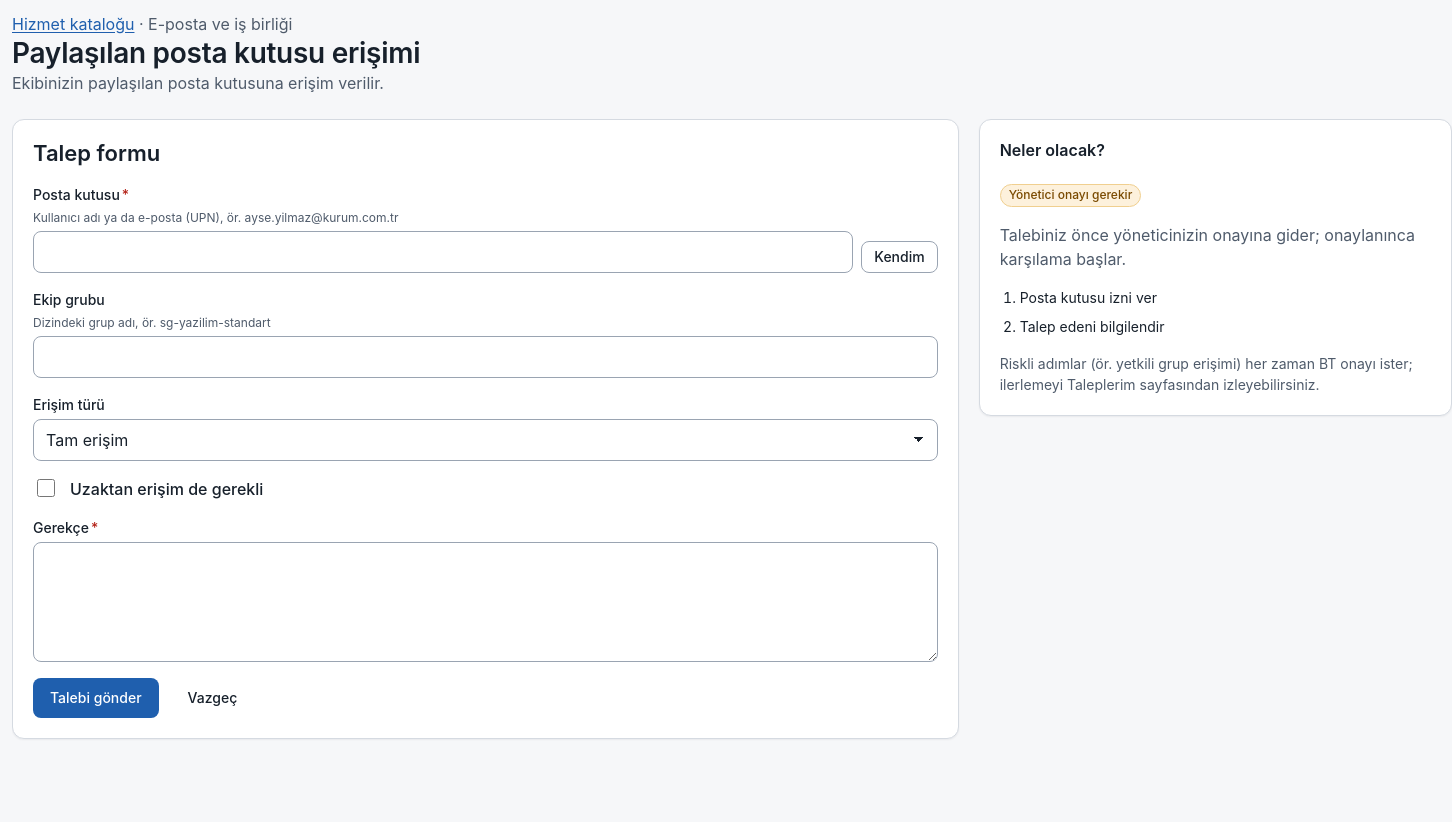
it: CatalogItemPage (/katalog/:key) › sunucu doğrulama hataları (422 message + errors) özet listesinde
Expected: the heading "Paylaşılan posta kutusu erişimi" is shown, left=12, top=36, right=420, bottom=71
Type "yok@kurum.com.tr" into the field labelled "Posta kutusu*".
click(443, 252); type("yok@kurum.com.tr")  # box left=33, top=230, right=853, bottom=272
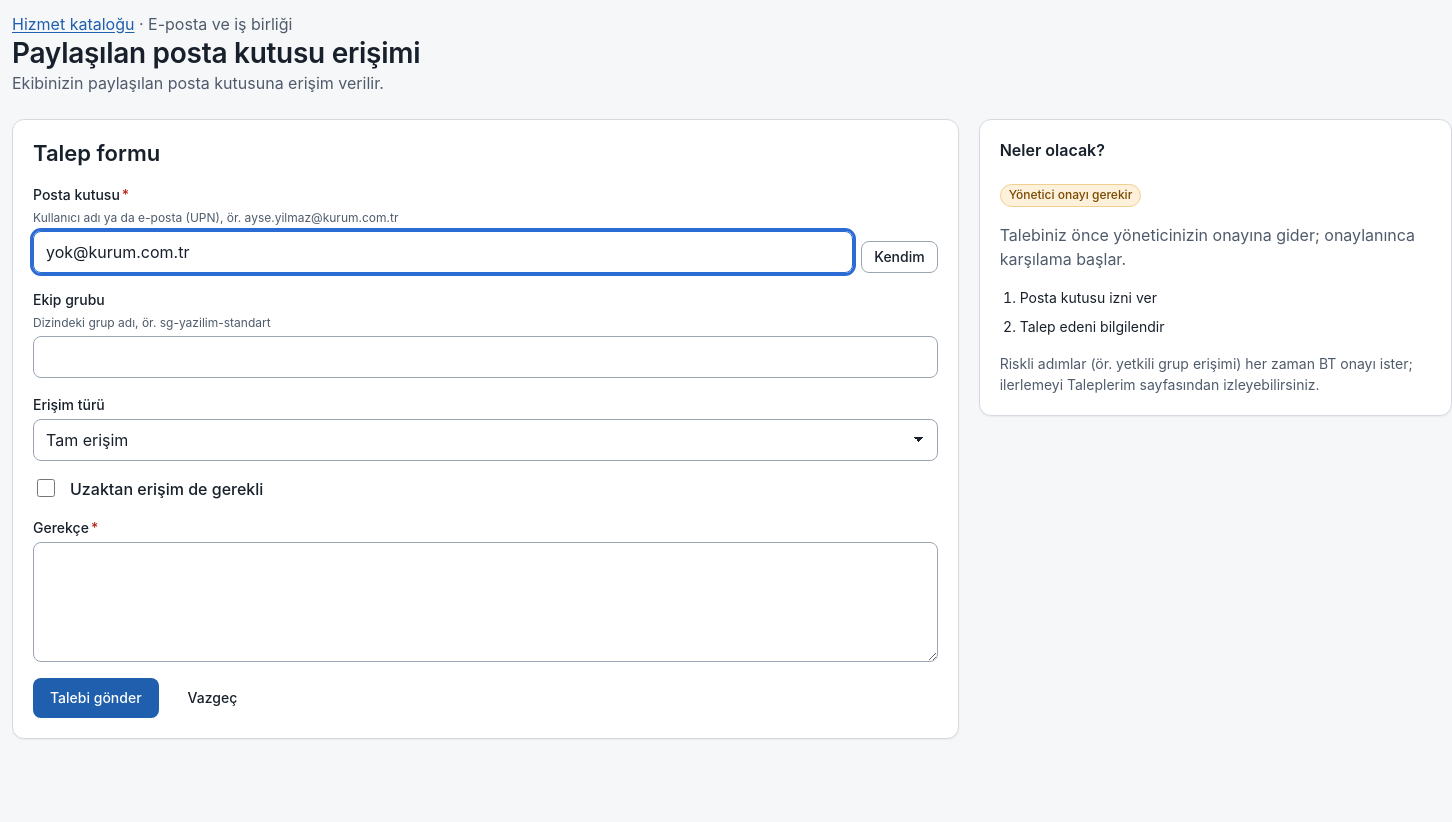
Type "Gerekli" into the text box labelled "Gerekçe*".
click(485, 602); type("Gerekli")  # box left=33, top=542, right=938, bottom=662
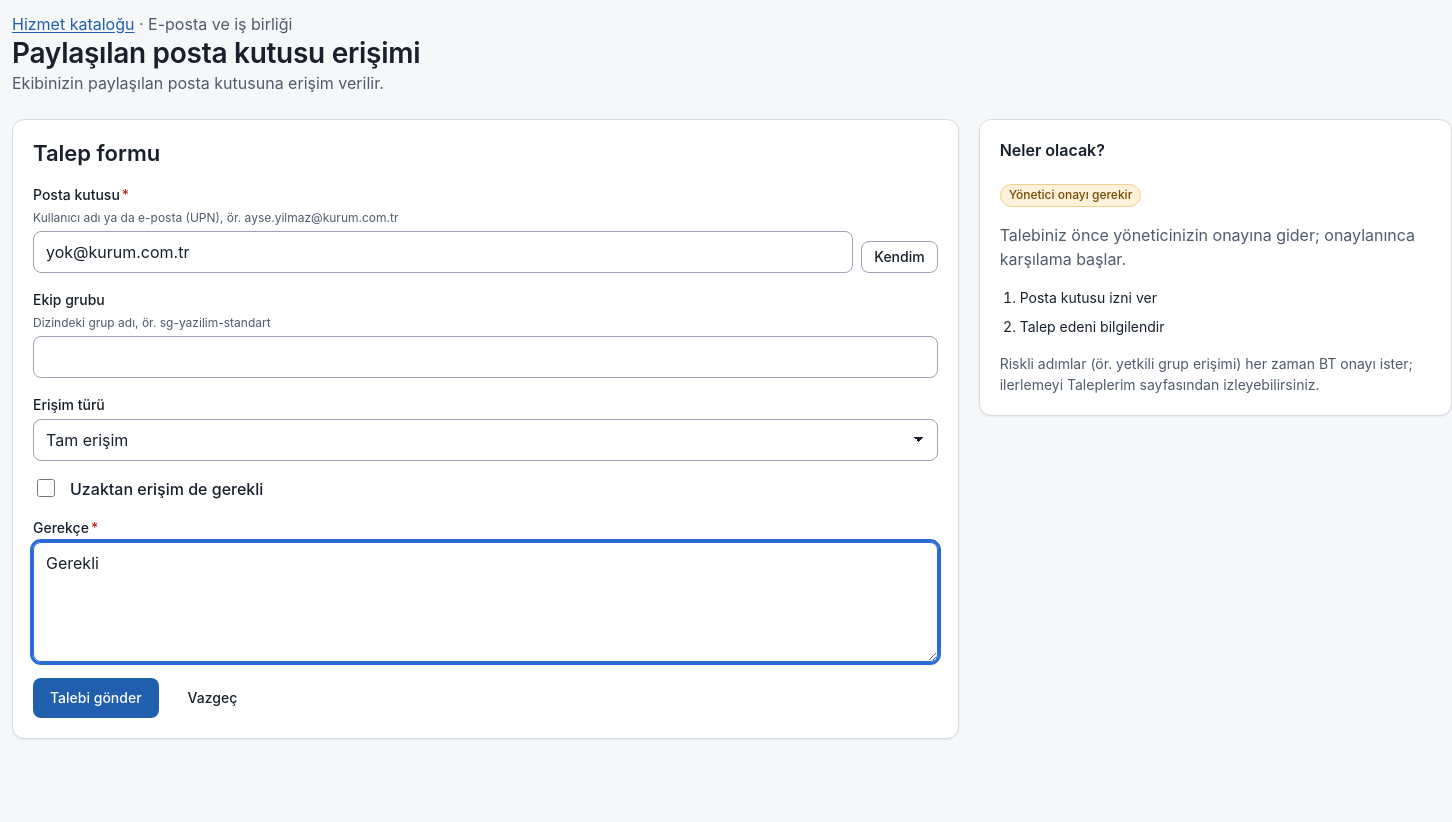
Click the button "Talebi gönder".
click(96, 698)  # box left=33, top=678, right=159, bottom=718
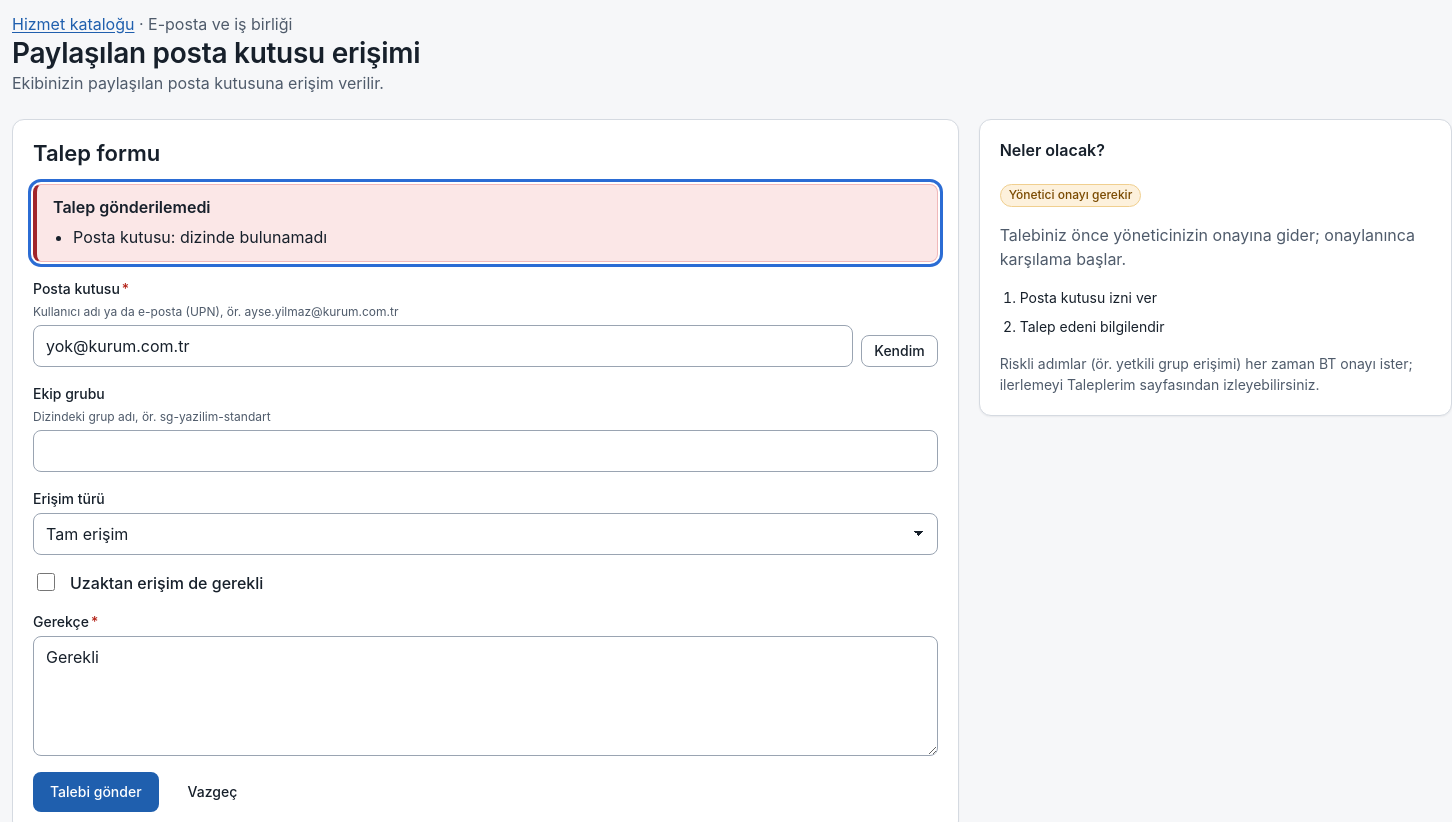
Result: the message shows "Posta kutusu: dizinde bulunamadı" at left=73, top=226, right=327, bottom=246
